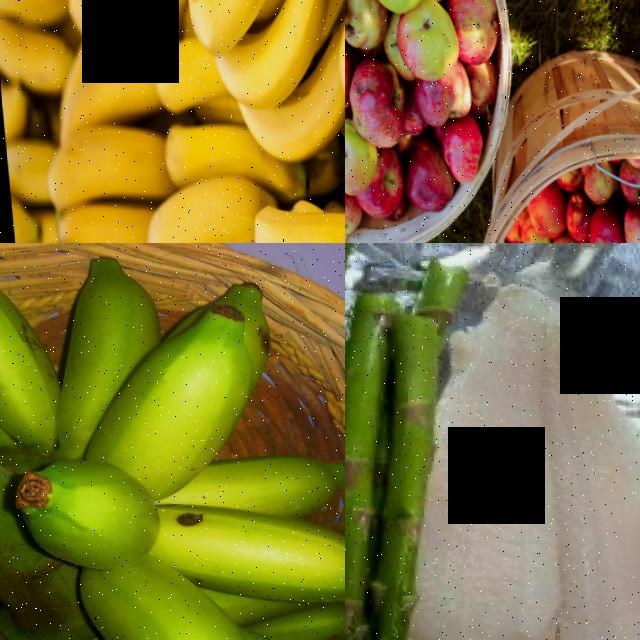apple: (345, 55, 402, 163), (388, 0, 455, 87), (403, 60, 475, 132), (440, 0, 498, 82), (396, 135, 446, 221), (431, 113, 484, 187), (348, 151, 401, 221), (514, 175, 561, 239), (567, 145, 616, 206), (345, 0, 388, 60), (549, 182, 587, 243), (579, 195, 624, 243), (345, 127, 371, 191), (625, 151, 640, 219), (617, 204, 640, 243), (536, 233, 587, 243)
asparagus: (374, 313, 489, 640), (345, 302, 434, 640)
banana: (0, 243, 345, 640), (98, 29, 258, 243), (179, 0, 345, 191)
